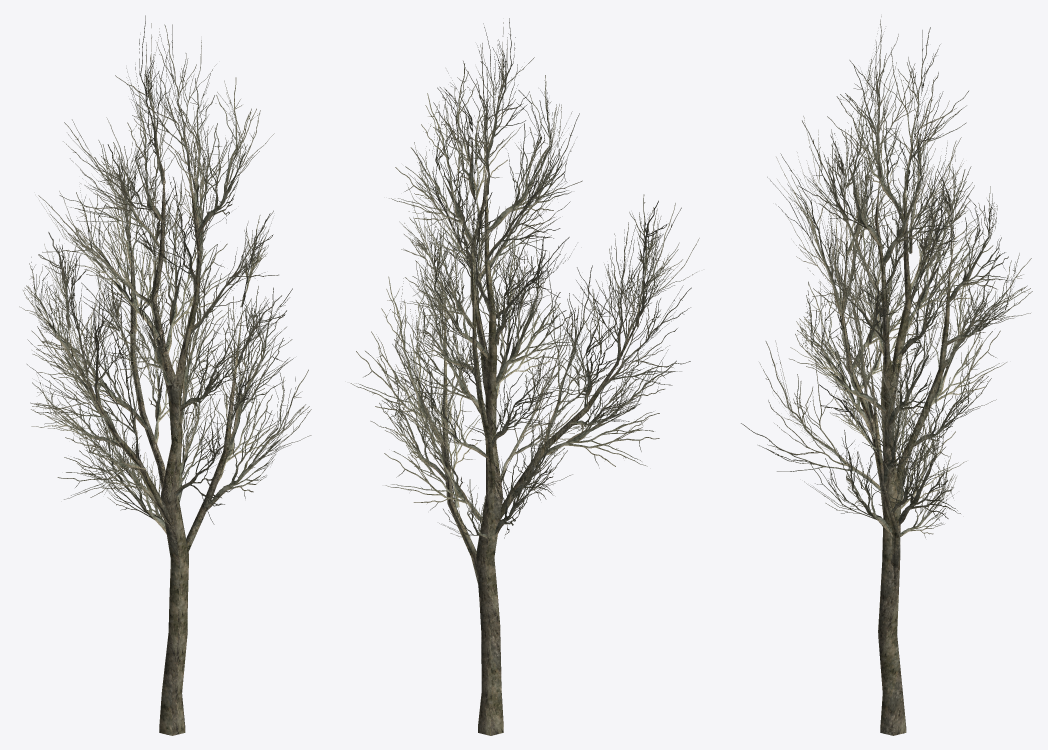
Rendered from tree1.glb.
The picture shows the model from 3 angles, left to right: view 1: azimuth 30°, elevation 25°; view 2: azimuth 150°, elevation 25°; view 3: azimuth 270°, elevation 25°; orthographic projection.
Visible parts, largest first — view 1: 枫树15; view 2: 枫树15; view 3: 枫树15.
Boxes of the visible parts, <box> form: 枫树15: <box>19,15,311,735</box>; 枫树15: <box>350,18,699,735</box>; 枫树15: <box>741,16,1032,735</box>.
Size of the model in its own units: 4.49 by 9.95 by 3.75.
2 materials, 2 textured.
